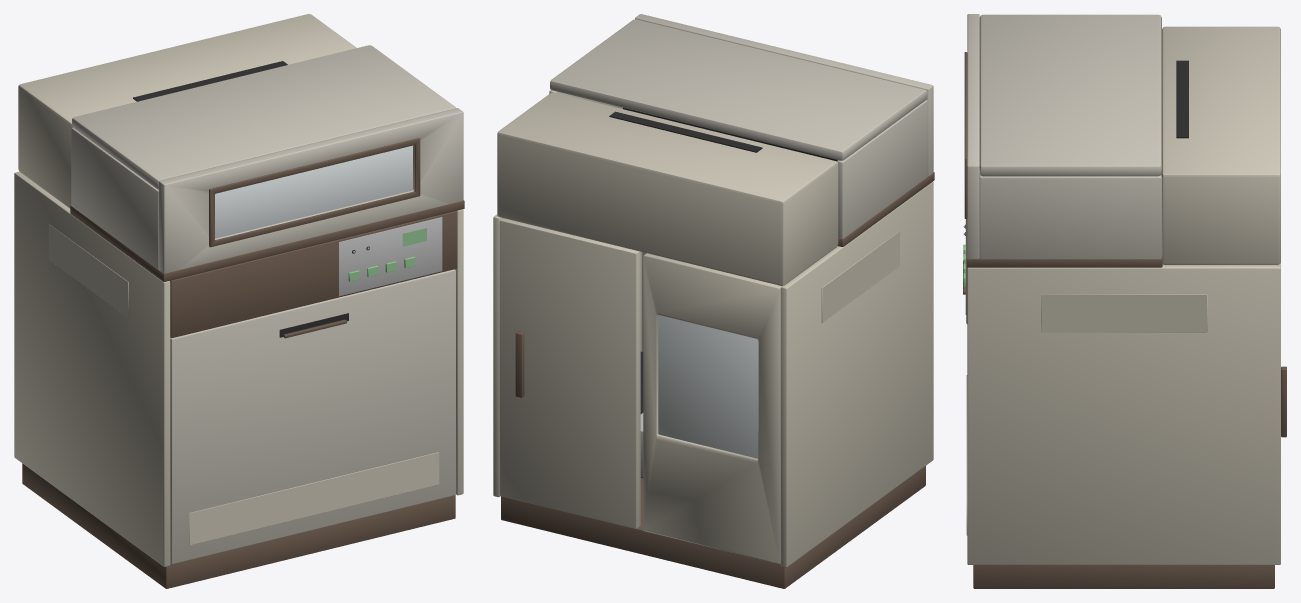
Rendered from Kit_LinePrinter.fbx.
The picture shows the model from 3 angles, left to right: view 1: azimuth 30°, elevation 25°; view 2: azimuth 150°, elevation 25°; view 3: azimuth 270°, elevation 25°; orthographic projection. The views are drawn at different scales.
Parts seen in each view (by area): view 1: Kit_LinePrinter_LOD0; view 2: Kit_LinePrinter_LOD0; view 3: Kit_LinePrinter_LOD0.
Boxes of the visible parts, <box> form: Kit_LinePrinter_LOD0: <box>14,14,464,588</box>; Kit_LinePrinter_LOD0: <box>493,14,934,588</box>; Kit_LinePrinter_LOD0: <box>963,14,1286,588</box>.
Size of what is drawn, in the model's own units: 0.874 by 1.13 by 0.779.
